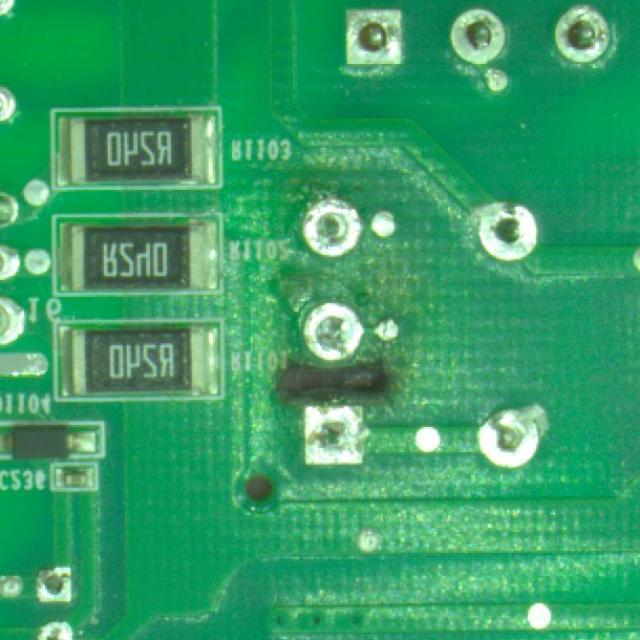Insufficient solder: (296, 398, 374, 476), (470, 189, 540, 274), (300, 194, 360, 268), (300, 304, 365, 371), (30, 562, 84, 604), (32, 619, 80, 640)
